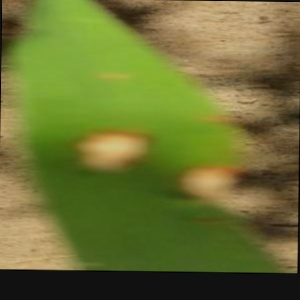Brown_Spot: (57, 115, 168, 189), (167, 148, 256, 206)
